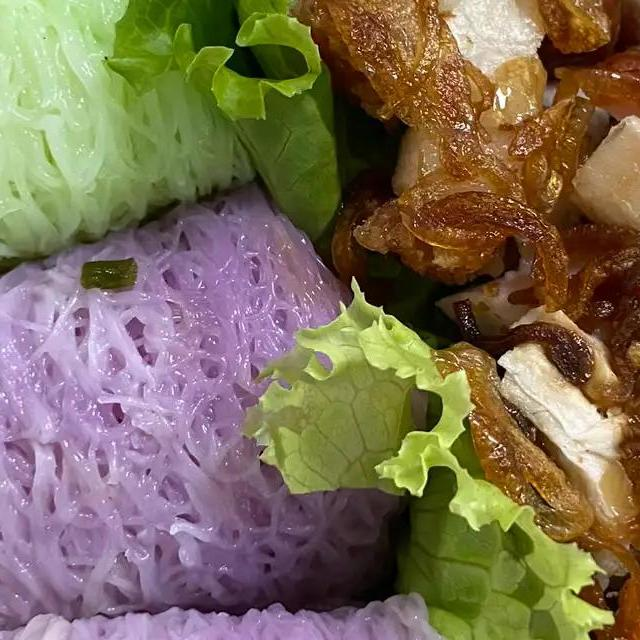banh hoi: (0, 155, 446, 640), (0, 0, 290, 389)
banh hoi heo quay: (0, 0, 640, 640)
thit heo quay: (441, 0, 640, 640), (374, 0, 568, 235), (139, 0, 414, 113)
